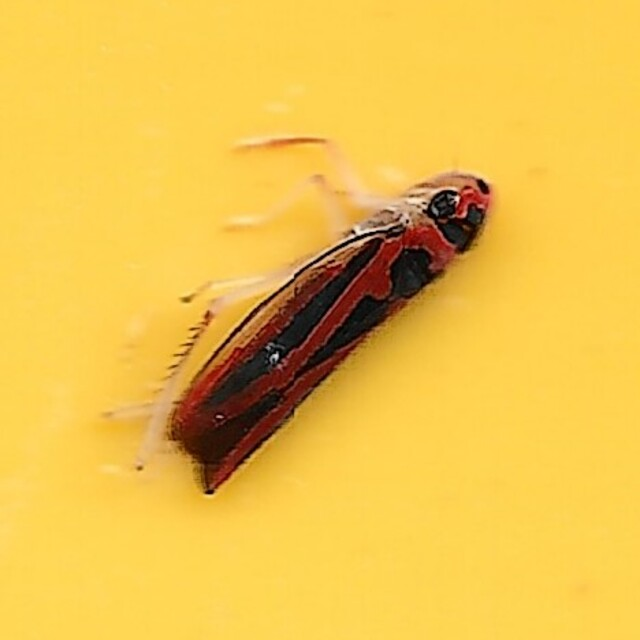Hemiptera: (137, 139, 503, 501)
